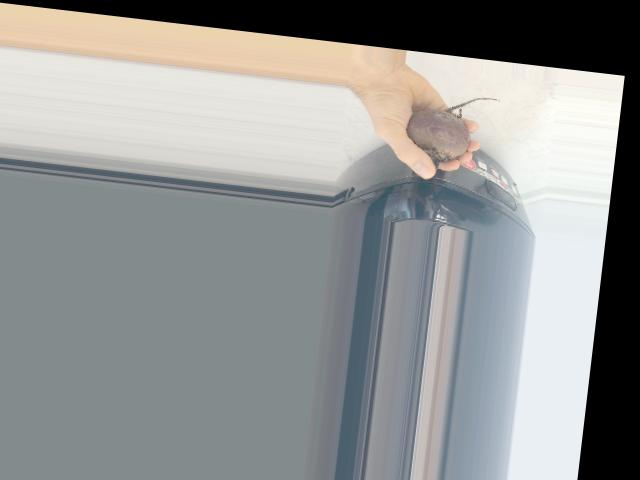beet: (403, 88, 500, 174)
